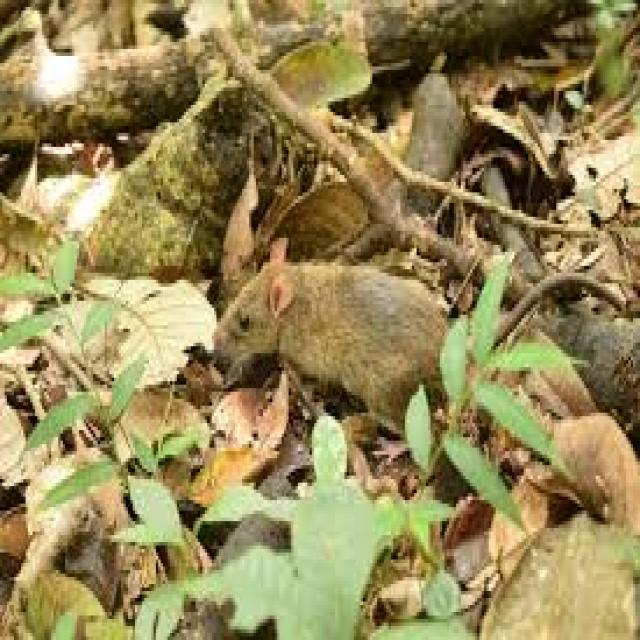rat: (209, 234, 452, 430)
